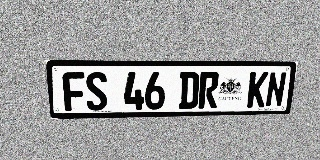4: (124, 72, 144, 110)
6: (145, 72, 165, 110)
D: (179, 72, 200, 109)
F: (62, 72, 86, 111)
K: (246, 72, 269, 108)
N: (265, 72, 287, 107)
R: (198, 72, 220, 109)
S: (85, 72, 108, 111)
